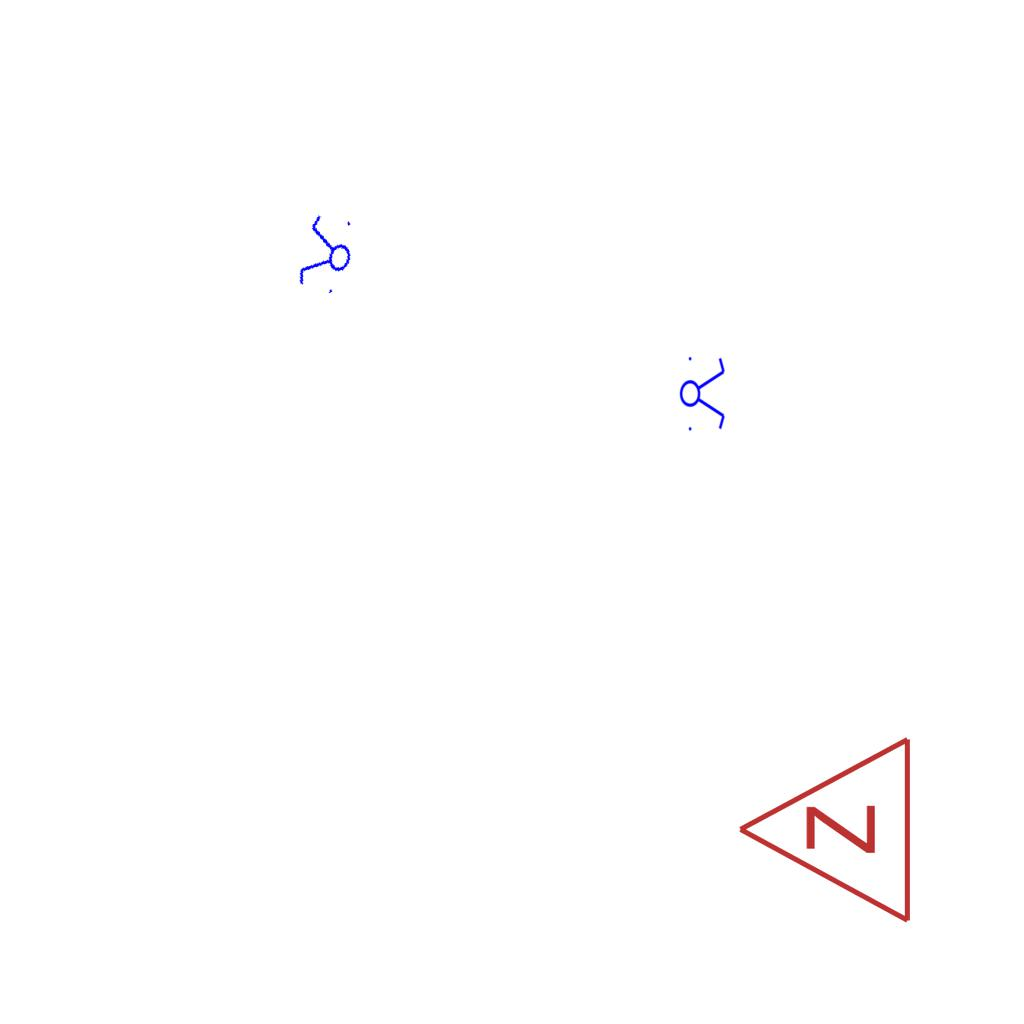Serienschalter: (292, 208, 362, 302), (679, 351, 727, 435)
Zimmersignalleuchte: (725, 734, 925, 930)
